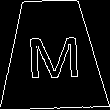M_N: (24, 29, 82, 80)
